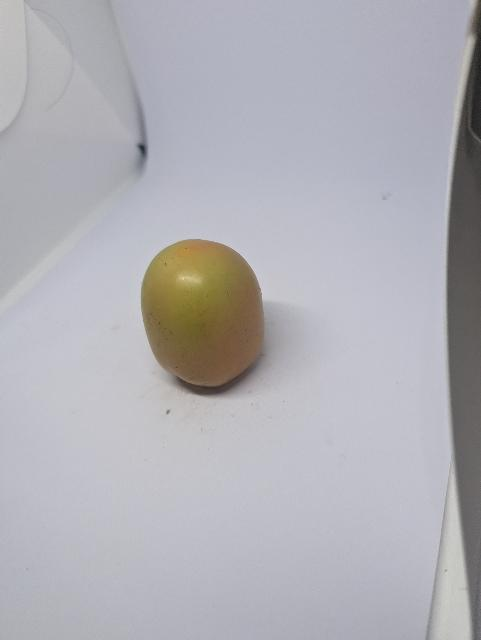turning: (144, 236, 271, 390)
